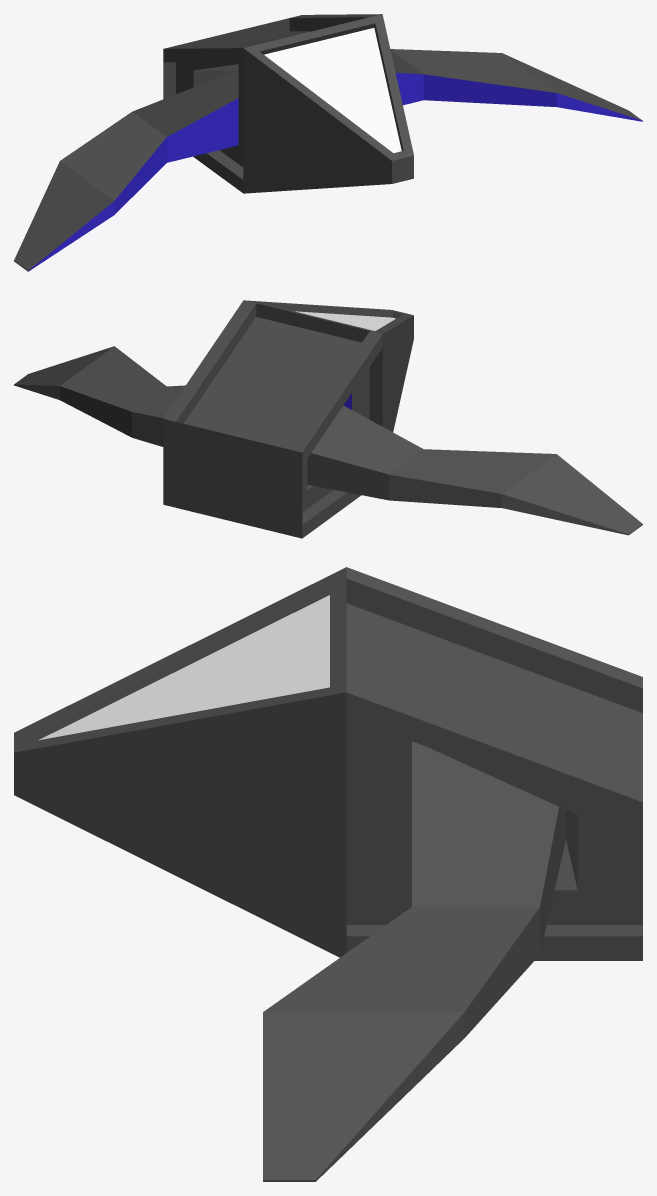
Rendered from enemy1.gltf.
3 renders of one model, top to bottom at view 1: azimuth 30°, elevation 25°; view 2: azimuth 150°, elevation 25°; view 3: azimuth 270°, elevation 25°, orthographic. The views are drawn at different scales.
Visible parts, largest first — view 1: Cube; view 2: Cube; view 3: Cube.
Part boxes in pixels (x1,y1,x2,y2): Cube: (14, 14, 642, 271); Cube: (14, 300, 642, 538); Cube: (14, 567, 642, 1181).
Size of the model in its own units: 8.84 by 2.05 by 4.24.
